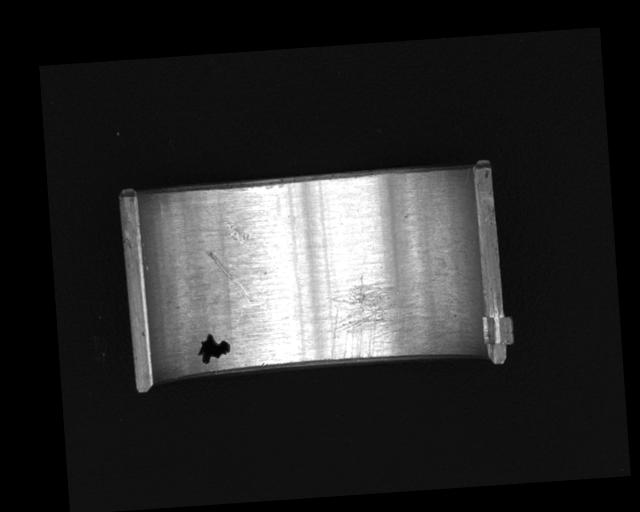blot: (194, 331, 232, 364)
bruise: (225, 218, 250, 245)
nick: (206, 248, 252, 305)
scratch: (323, 268, 452, 362)
